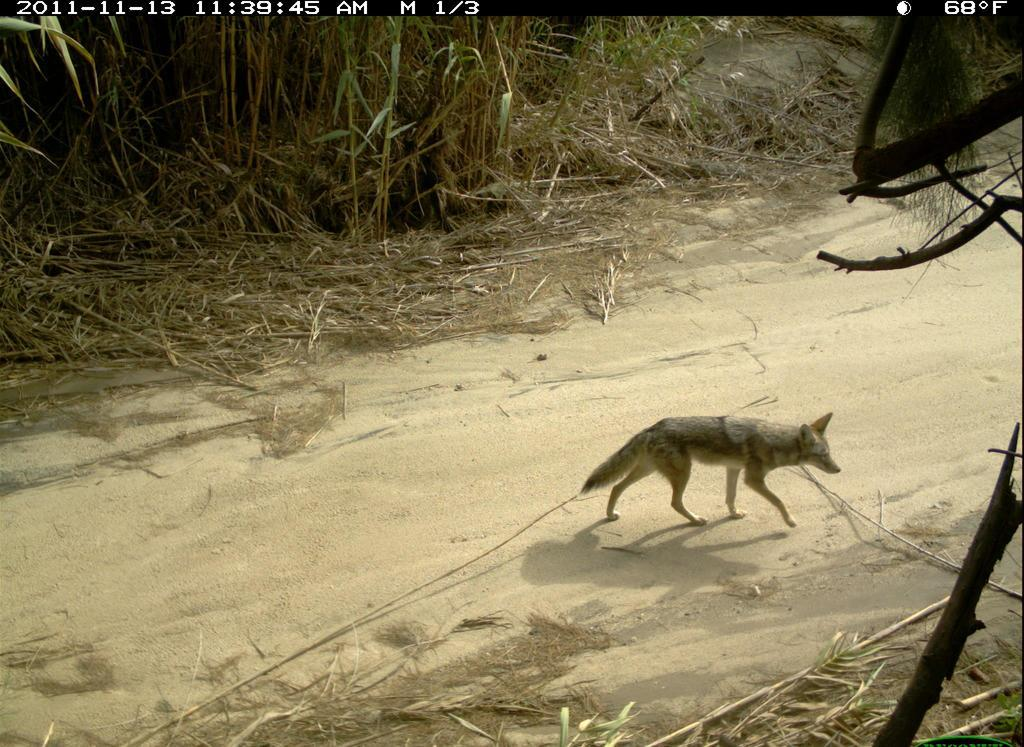coyote: (575, 408, 853, 536)
